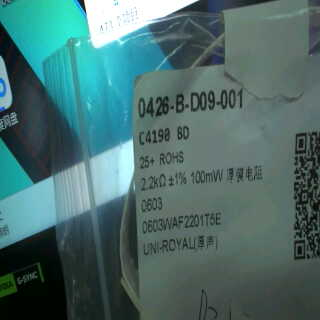2.2kR: (138, 169, 168, 194)
